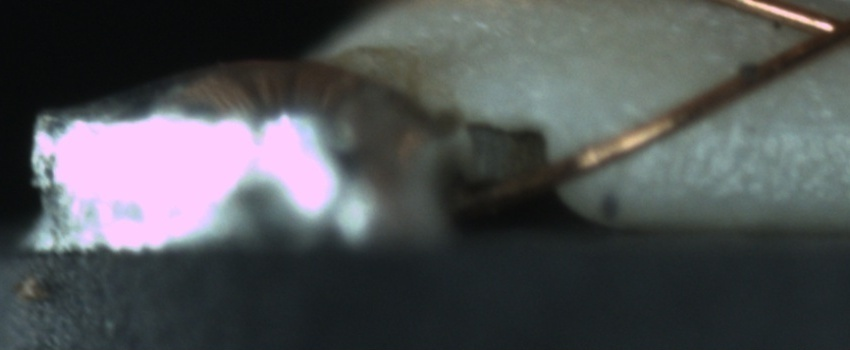CL: (774, 2, 850, 64)
DL: (701, 95, 850, 154)
